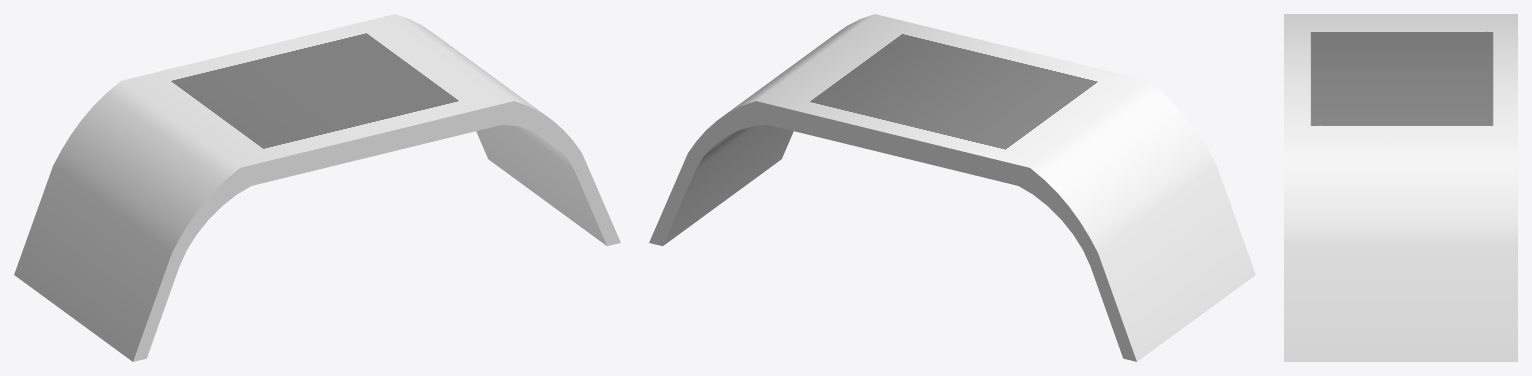
The model's file is TT_TavoloA_002.FBX.
3 views of the same model, side by side, from view 1: azimuth 30°, elevation 25°; view 2: azimuth 150°, elevation 25°; view 3: azimuth 270°, elevation 25° (orthographic).
Visible parts, largest first — view 1: TavoloA_001; view 2: TavoloA_001; view 3: TavoloA_001.
Part boxes in pixels (bbox=[...]): TavoloA_001: bbox=[14, 14, 620, 361]; TavoloA_001: bbox=[649, 14, 1255, 361]; TavoloA_001: bbox=[1284, 14, 1517, 361].
Bounding box in the file's own units: 95.05 × 31.26 × 40.12.
1 material, 1 textured.
